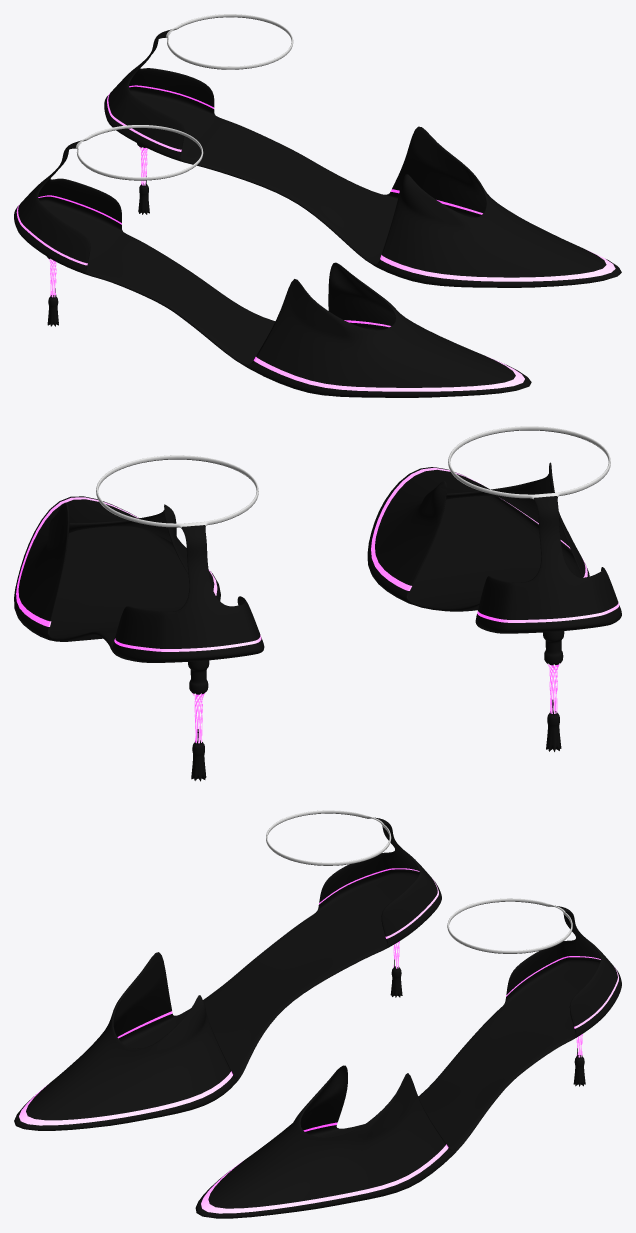
Rendered from heels.gltf.
3 renders of one model, top to bottom at view 1: azimuth 30°, elevation 25°; view 2: azimuth 150°, elevation 25°; view 3: azimuth 270°, elevation 25°, orthographic. The views are drawn at different scales.
Parts seen in each view (by area): view 1: Cylinder; view 2: Cylinder; view 3: Cylinder.
Part boxes in pixels (x1,y1,x2,y2): Cylinder: [14, 14, 621, 397]; Cylinder: [14, 426, 621, 781]; Cylinder: [14, 810, 621, 1218].
Size of the model in its own units: 5.37 by 1.86 by 5.54.
